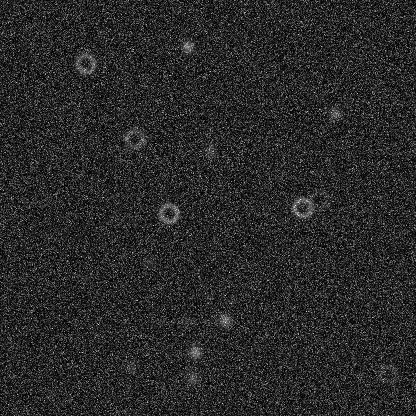Ring: (376, 362, 400, 386), (156, 201, 180, 225), (73, 51, 97, 75), (290, 195, 314, 219), (122, 126, 146, 150), (308, 187, 332, 211)
Spot: (184, 370, 200, 386), (187, 343, 203, 359), (141, 253, 157, 269), (181, 312, 197, 328), (202, 143, 218, 159), (179, 38, 195, 54), (123, 359, 139, 375), (326, 105, 342, 121), (216, 312, 232, 328)
